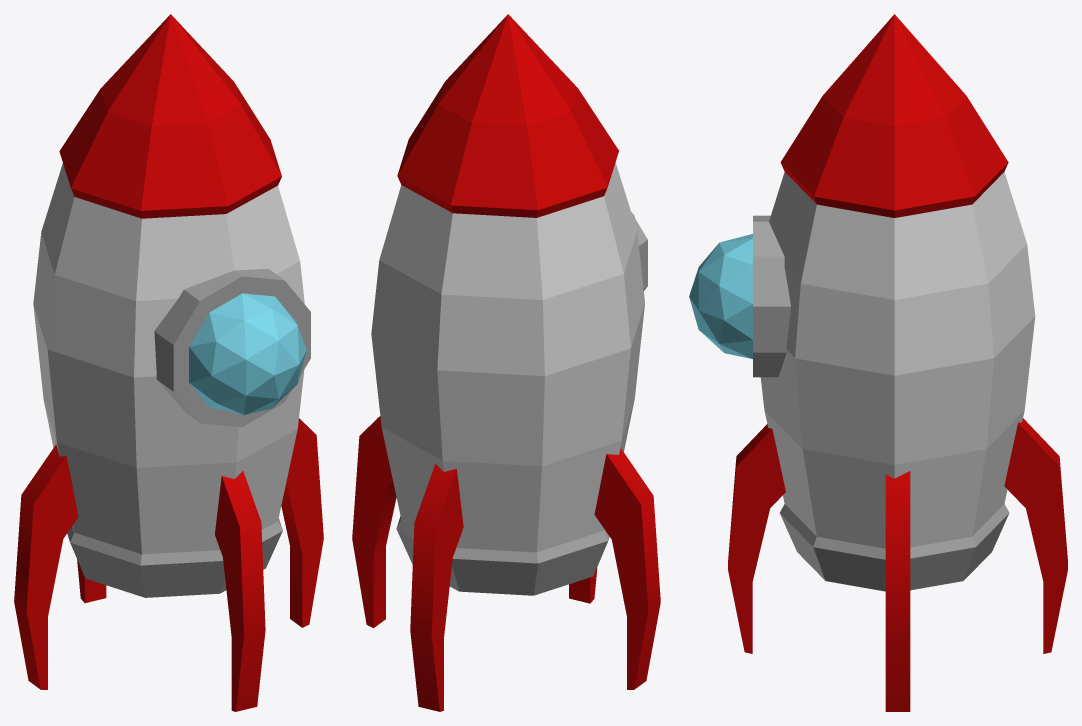
File: rocket.fbx
3 views of the same model, side by side, from view 1: azimuth 30°, elevation 25°; view 2: azimuth 150°, elevation 25°; view 3: azimuth 270°, elevation 25° (orthographic).
Visible parts, largest first — view 1: Rocket Ship 01; view 2: Rocket Ship 01; view 3: Rocket Ship 01.
Boxes of the visible parts, x1,y1,x2,y2 form: Rocket Ship 01: (14, 14, 323, 711); Rocket Ship 01: (352, 14, 660, 711); Rocket Ship 01: (689, 14, 1067, 711).
Bounding box in the file's own units: 69.19 × 143 × 77.15.
